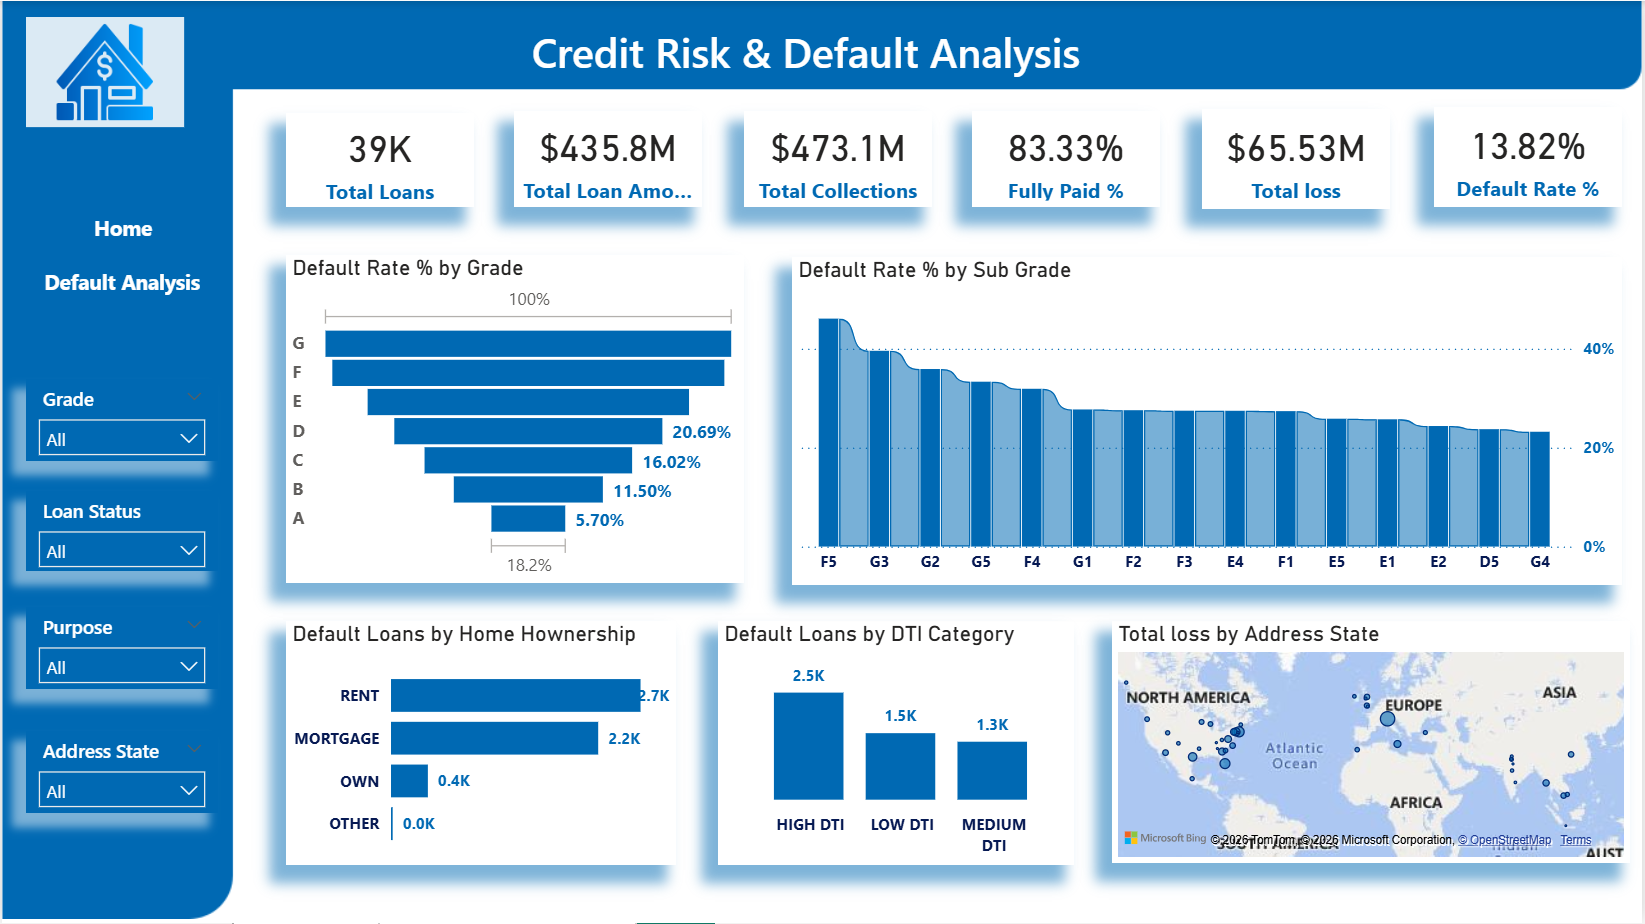

The dashboard page shown, as its layout file describes it:
{"tool":"powerbi","page":{"name":"Default Analysis","canvas":[1280,720],"ordinal":1},"visuals":[{"type":"funnel","title":"Default Rate % by Grade","fields":{"Category":["loan_data.grade"],"Y":["loan_data.Default Rate %"]},"box":[221.8,198.4,357.7,256.1],"z":0},{"type":"ribbonChart","title":"Default Rate %  by Sub Grade","fields":{"Category":["loan_data.sub_grade"],"Y":["loan_data.Default Rate %"]},"box":[616.9,199.9,648.2,256.1],"z":1000},{"type":"clusteredBarChart","title":"Default Loans by Home Hownership","fields":{"Y":["loan_data.Default Loans"],"Category":["loan_data.home_ownership"]},"box":[221.8,484.2,304.6,190.5],"z":2000},{"type":"map","title":"Total loss by Address State","fields":{"Category":["loan_data.address_state"],"Size":["loan_data.Total loss"]},"box":[866.8,484.2,404.5,189],"z":3000},{"type":"clusteredColumnChart","fields":{"Category":["loan_data.DTI Category"],"Y":["loan_data.Default Loans"]},"box":[559.1,484.2,278,190.5],"z":4000},{"type":"textbox","box":[399.8,12.5,571.6,59.3],"z":5000},{"type":"card","fields":{"Values":["loan_data.Total Loans"]},"box":[221.8,87.5,146.8,73.4],"z":6000},{"type":"card","fields":{"Values":["loan_data.Total Loan Amount"]},"box":[399.8,85.9,146.8,75],"z":7000},{"type":"card","fields":{"Values":["loan_data.Total Received Amt"]},"box":[579.4,85.9,146.8,75],"z":8000},{"type":"card","fields":{"Values":["loan_data.Fully Paid %"]},"box":[757.5,85.9,146.8,75],"z":9000},{"type":"card","fields":{"Values":["loan_data.Total loss"]},"box":[937.1,84.3,146.8,78.1],"z":10000},{"type":"card","fields":{"Values":["loan_data.Default Rate %"]},"box":[1118.3,82.8,146.8,78.1],"z":11000},{"type":"slicer","fields":{"Values":["loan_data.grade"]},"box":[18.7,295.8,149.9,64],"z":12000},{"type":"slicer","fields":{"Values":["loan_data.loan_status"]},"box":[18.7,383.2,149.9,62.5],"z":13000},{"type":"slicer","fields":{"Values":["loan_data.purpose"]},"box":[18.7,473.8,149.9,64],"z":14000},{"type":"slicer","fields":{"Values":["loan_data.address_state"]},"box":[18.7,570.6,149.9,64],"z":15000},{"type":"image","box":[18.7,12.5,123.4,85.9],"z":16000},{"type":"textbox","box":[18.7,160.9,151.5,39],"z":17000},{"type":"textbox","box":[18.7,203,149.9,37.5],"z":18000},{"type":"shape","box":[25,157.7,140.6,40.6],"z":19000}]}

Visuals, with their boxes in screenshot pixels (x1, y1, x2, y2), scaled from the page's 1280x720 canvas onto the 1645x924 screenshot:
"Default Rate % by Grade" funnel: box=[285, 255, 745, 583]
"Default Rate %  by Sub Grade" ribbonChart: box=[793, 257, 1626, 585]
"Default Loans by Home Hownership" clusteredBarChart: box=[285, 621, 677, 866]
"Total loss by Address State" map: box=[1114, 621, 1634, 864]
clusteredColumnChart - loan_data.DTI Category x loan_data.Default Loans: box=[719, 621, 1076, 866]
textbox: box=[514, 16, 1248, 92]
card - loan_data.Total Loans: box=[285, 112, 474, 206]
card - loan_data.Total Loan Amount: box=[514, 110, 702, 206]
card - loan_data.Total Received Amt: box=[745, 110, 933, 206]
card - loan_data.Fully Paid %: box=[974, 110, 1162, 206]
card - loan_data.Total loss: box=[1204, 108, 1393, 208]
card - loan_data.Default Rate %: box=[1437, 106, 1626, 206]
slicer - loan_data.grade: box=[24, 380, 217, 462]
slicer - loan_data.loan_status: box=[24, 492, 217, 572]
slicer - loan_data.purpose: box=[24, 608, 217, 690]
slicer - loan_data.address_state: box=[24, 732, 217, 814]
image: box=[24, 16, 183, 126]
textbox: box=[24, 206, 219, 257]
textbox: box=[24, 261, 217, 309]
shape: box=[32, 202, 213, 254]
